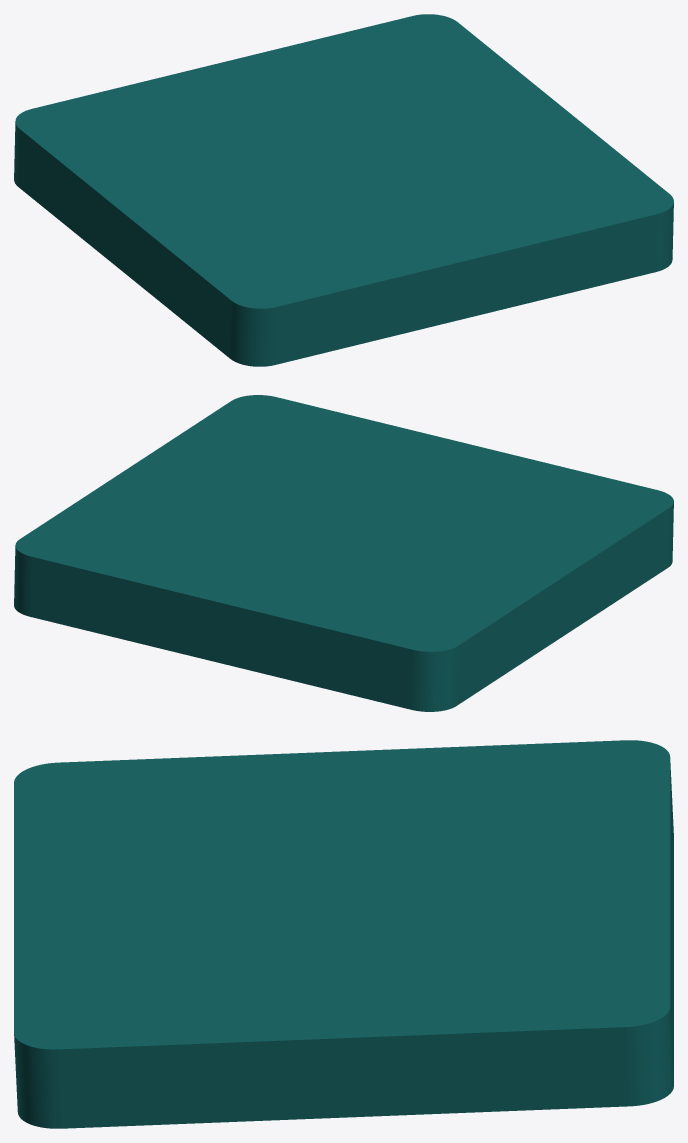
Rendered from original-106.obj.
3 views of the same model, one above another, from view 1: azimuth 30°, elevation 25°; view 2: azimuth 150°, elevation 25°; view 3: azimuth 270°, elevation 25° (orthographic). The views are drawn at different scales.
Parts seen in each view (by area): view 1: Group95/mesh277/mesh277-geometry#mesh277-geometry; view 2: Group95/mesh277/mesh277-geometry#mesh277-geometry; view 3: Group95/mesh277/mesh277-geometry#mesh277-geometry.
Boxes of the visible parts, x1,y1,x2,y2 form: Group95/mesh277/mesh277-geometry#mesh277-geometry: (14,14,673,366); Group95/mesh277/mesh277-geometry#mesh277-geometry: (14,395,673,711); Group95/mesh277/mesh277-geometry#mesh277-geometry: (14,740,673,1128).
Bounding box in the file's own units: 0.0528 × 0.00902 × 0.0514.
